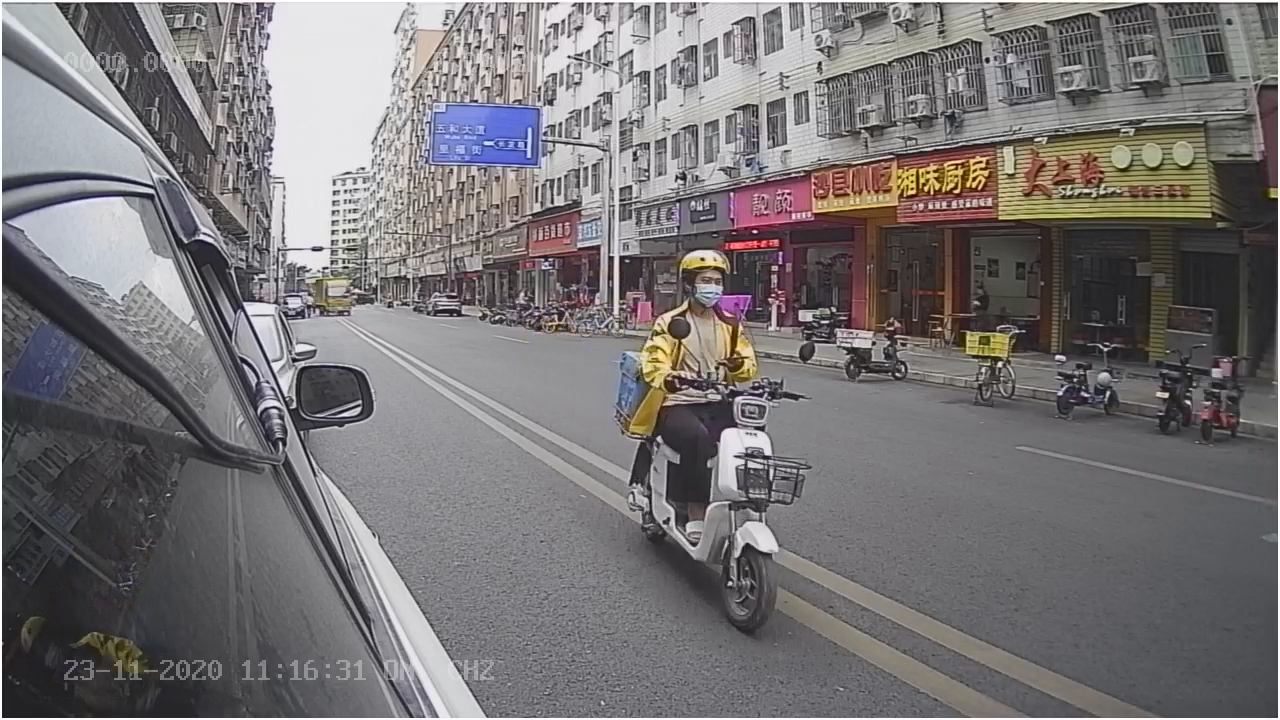person: (628, 241, 765, 381)
